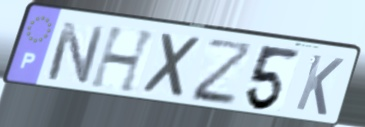5: (242, 42, 304, 112)
H: (87, 24, 160, 96)
K: (292, 51, 347, 119)
N: (43, 19, 107, 87)
X: (140, 30, 206, 101)
Z: (189, 37, 256, 108)
